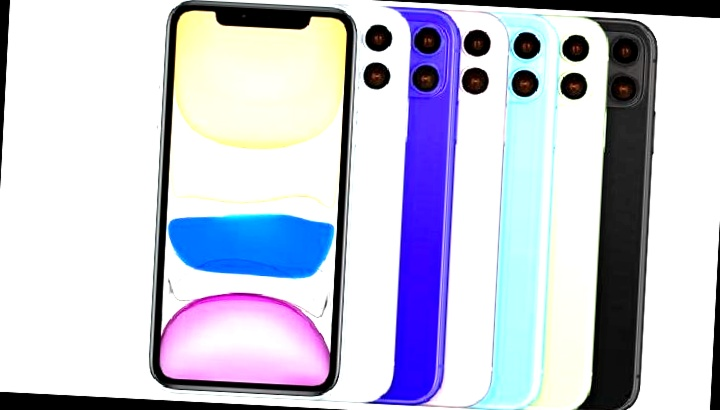iphone: (366, 6, 568, 401)
